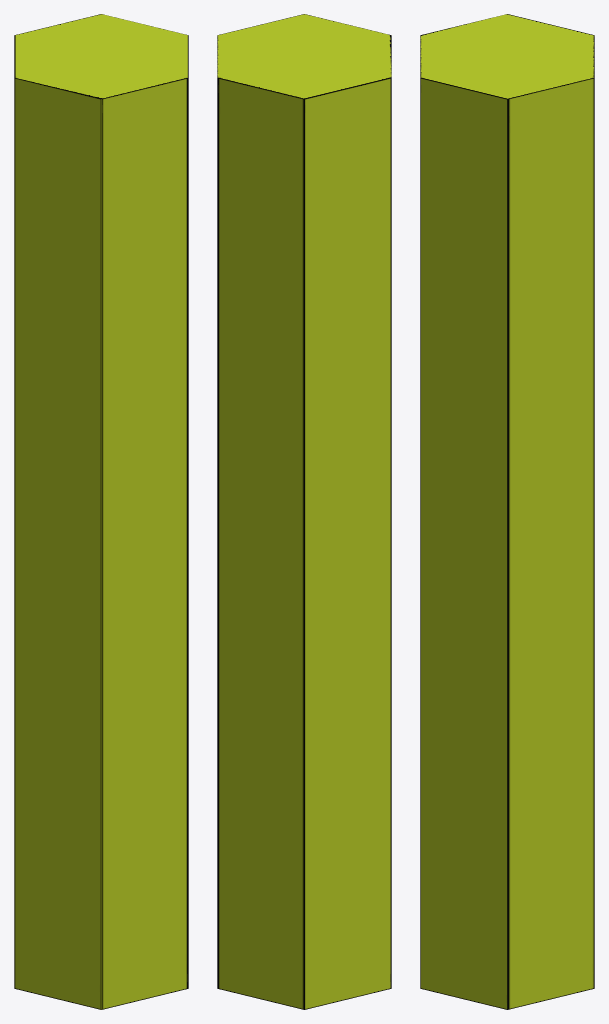
File: world4.obj
3 renders of one model, left to right at view 1: azimuth 30°, elevation 25°; view 2: azimuth 150°, elevation 25°; view 3: azimuth 270°, elevation 25°, orthographic.
Visible parts, largest first — view 1: 円; view 2: 円; view 3: 円.
Boxes of the visible parts, x1,y1,x2,y2 form: 円: (14, 14, 188, 1009); 円: (217, 14, 391, 1009); 円: (420, 14, 594, 1009).
Size of the model in its own units: 2 by 10 by 1.73.
Materials: 1 (1 with a texture image).
